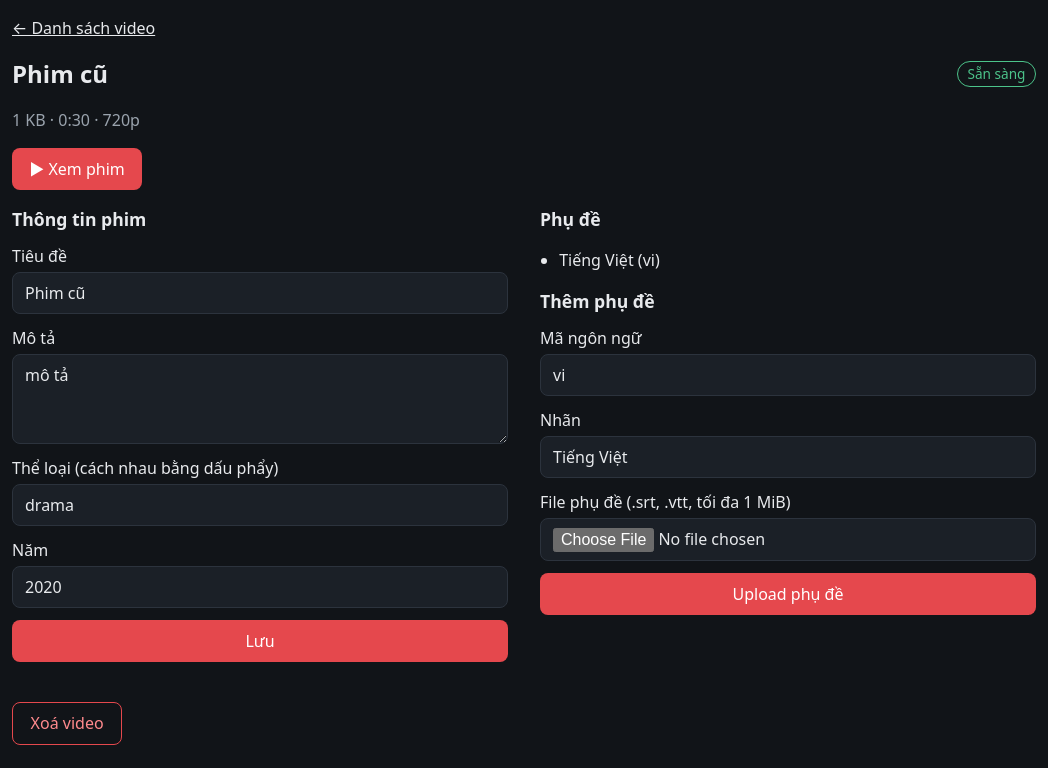
Scenario: AdminVideoPage › upload phụ đề kiểm tra mã ngôn ngữ rồi gọi API
The width and height of the screenshot is (1048, 768).
Later steps or results of the test are not shown.
Replace the text in the field labelled "Mã ngôn ngữ" with "English" at (788, 375), box x1=540 y1=354 x2=1036 y2=396
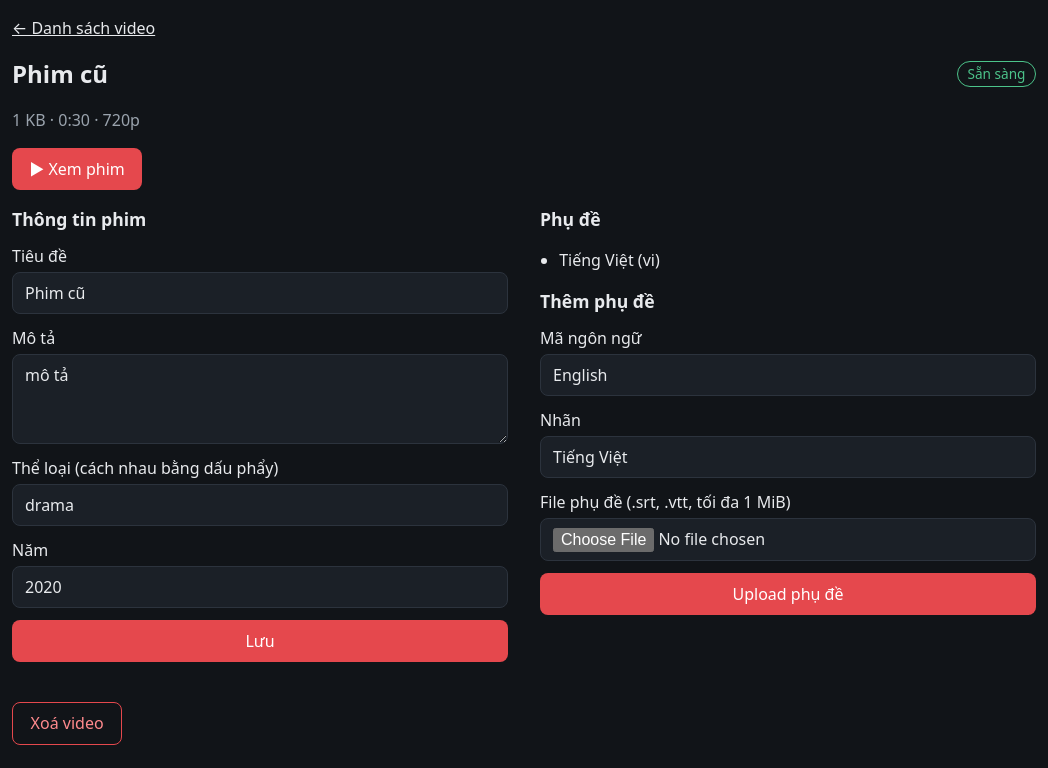
Click the button "Upload phụ đề".
click(788, 594)  # box x1=540 y1=573 x2=1036 y2=615
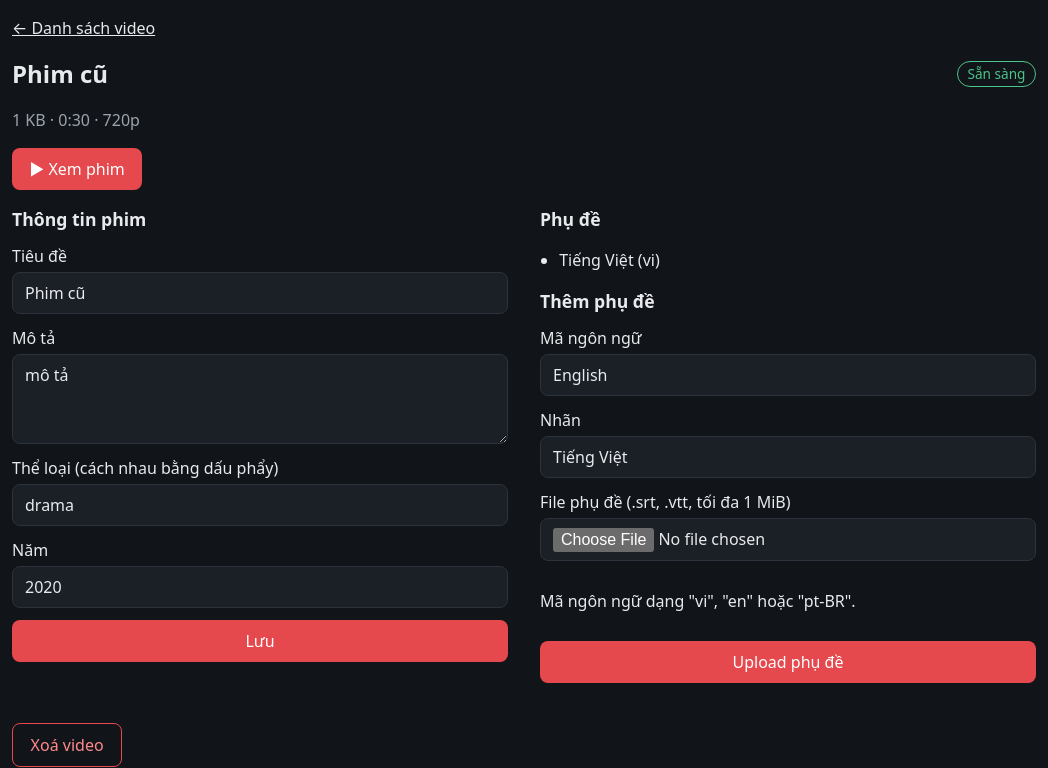
expect the message shows "Mã ngôn ngữ dạng": met, box x1=540 y1=590 x2=856 y2=612
